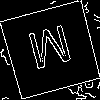M: (25, 24, 77, 79)
